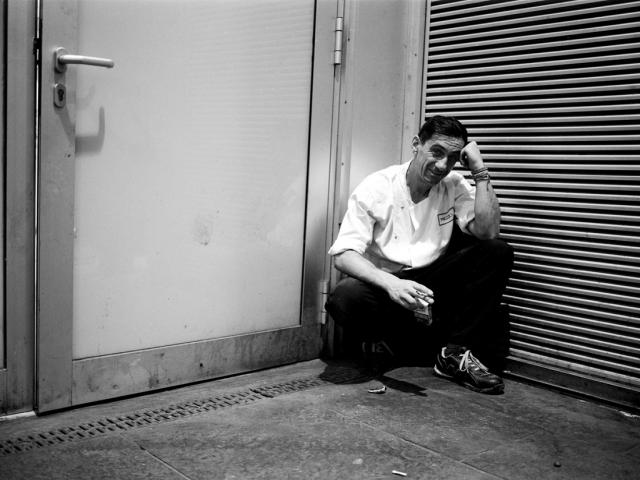Door-handle: (51, 45, 114, 74)
